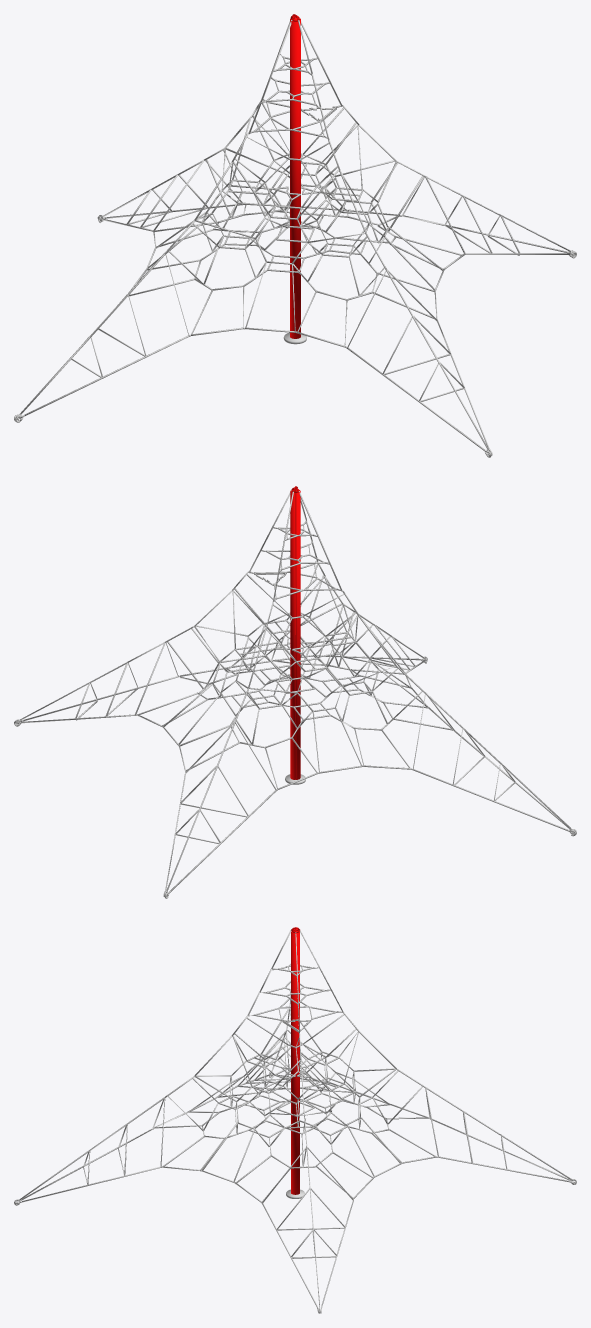
Rendered from 5_net.fbx.
3 views of the same model, one above another, from view 1: azimuth 30°, elevation 25°; view 2: azimuth 150°, elevation 25°; view 3: azimuth 270°, elevation 25° (orthographic). The views are drawn at different scales.
Visible parts, largest first — view 1: playground_411, playground_153; view 2: playground_411; view 3: playground_411.
Boxes of the visible parts, bbox=[...] form: playground_411: bbox=[290, 18, 300, 338]; playground_153: bbox=[20, 220, 195, 414]; playground_411: bbox=[290, 490, 300, 779]; playground_411: bbox=[291, 931, 299, 1194].
Size of the model in its own units: 196 by 196 by 103.
